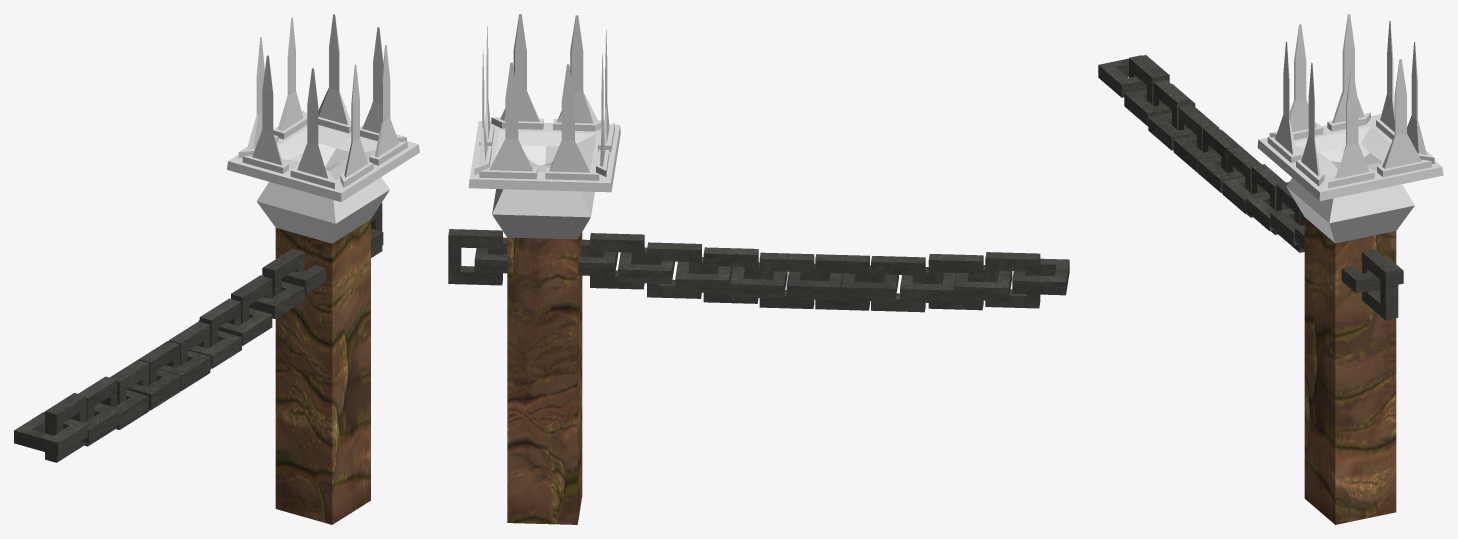
The model's file is BARANDAL.fbx.
3 views of the same model, side by side, from view 1: azimuth 30°, elevation 25°; view 2: azimuth 150°, elevation 25°; view 3: azimuth 270°, elevation 25° (orthographic).
Parts seen in each view (by area): view 1: BARANDAL; view 2: BARANDAL; view 3: BARANDAL.
Boxes of the visible parts, left/top/right/bottom form: BARANDAL: left=14, top=14, right=419, bottom=524; BARANDAL: left=448, top=14, right=1069, bottom=524; BARANDAL: left=1098, top=14, right=1443, bottom=524.
Bounding box in the file's own units: 423 × 381 × 257.
